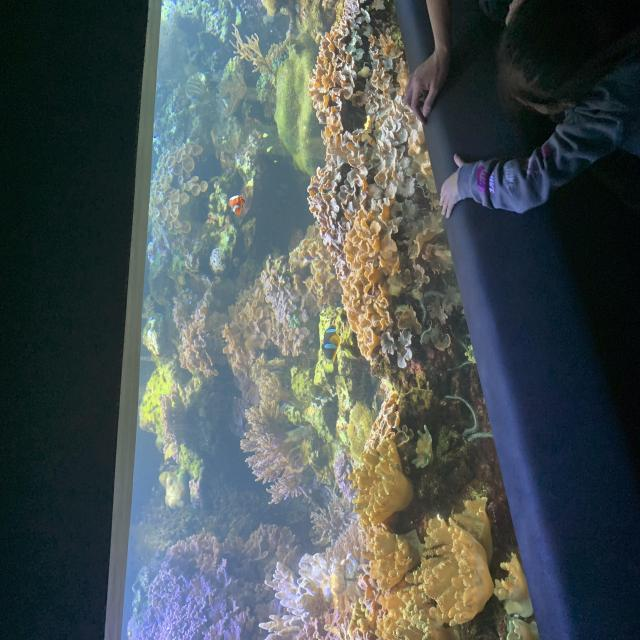fish: (322, 324, 341, 369), (228, 195, 245, 216)
